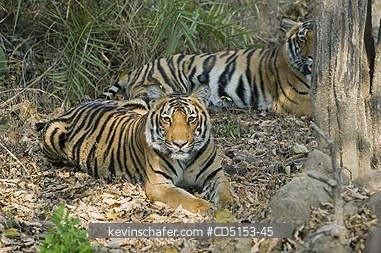tigre: (38, 82, 241, 223), (105, 16, 319, 111)
